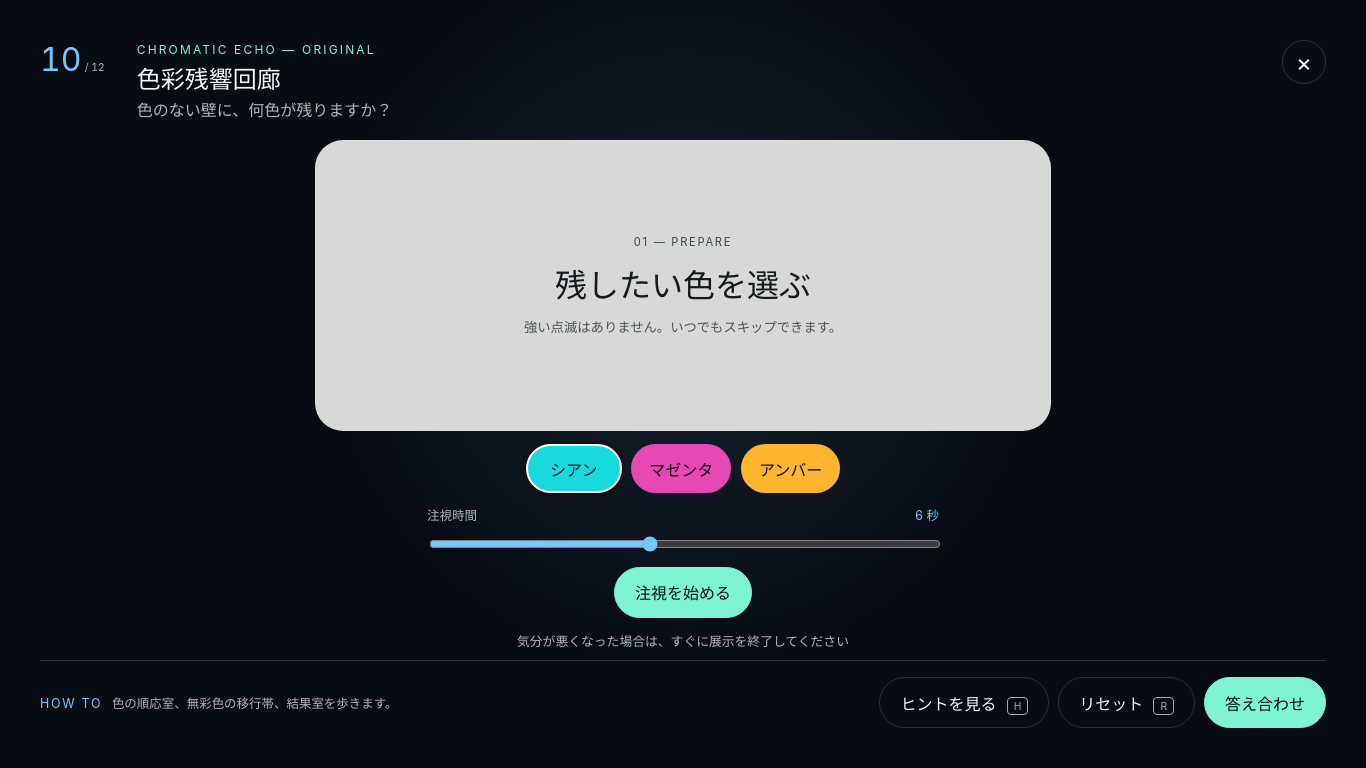
Scenario: ExhibitExperience › lets the chromatic echo sequence be skipped without waiting
Click the button "注視を始める": (683, 592) [614,567,752,618]
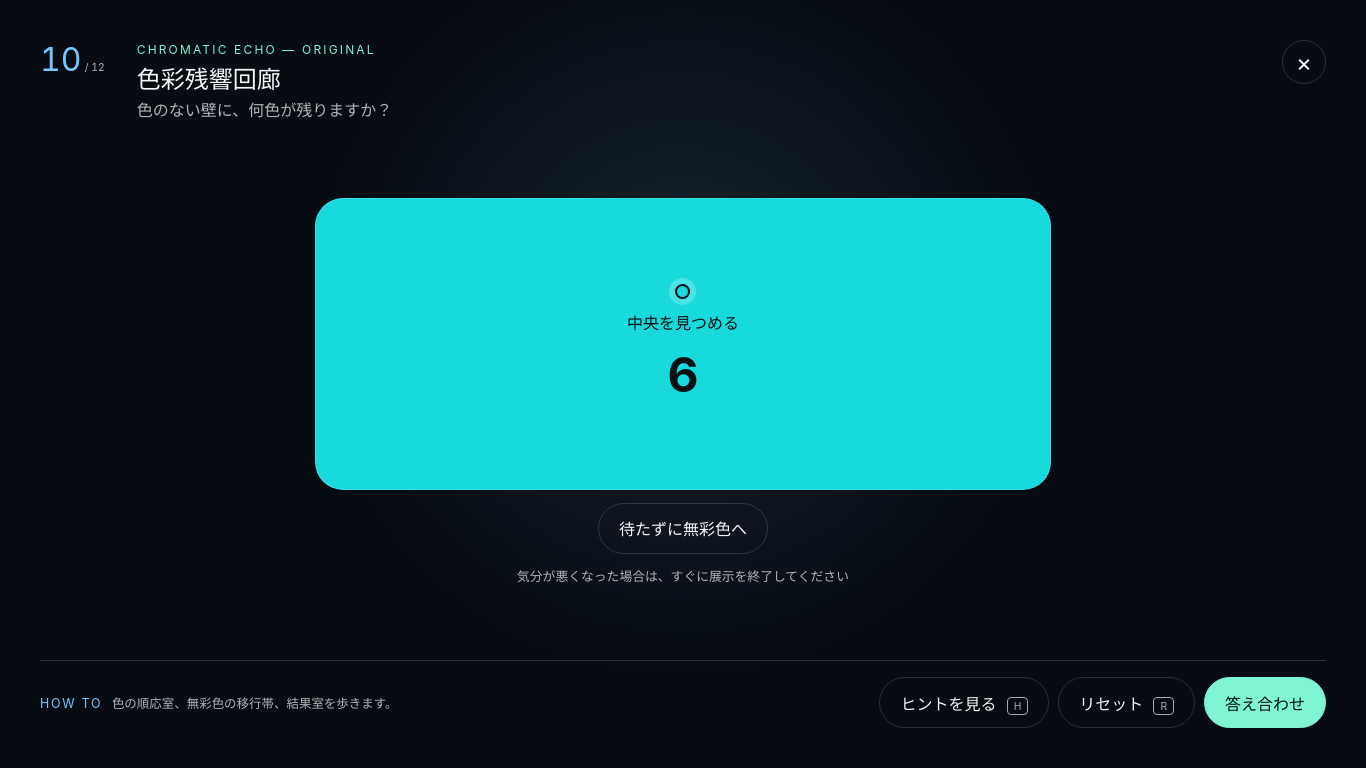
Expected: the text "中央を見つめる" is shown, [627,310,739,334]
Click the button "待たずに無彩色へ": (683, 528) [598,503,768,554]
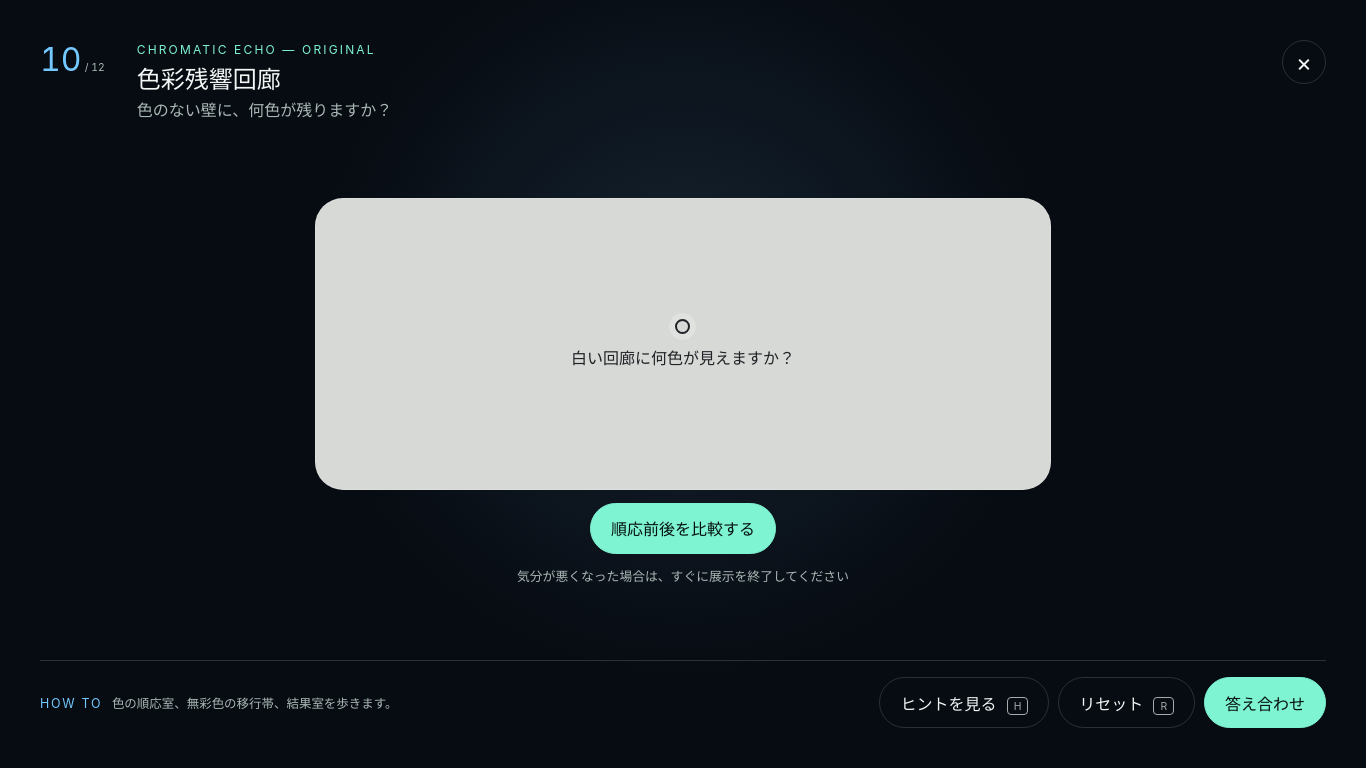
Expected: the text "白い回廊に何色が見えますか？" is shown, [571,345,795,369]
